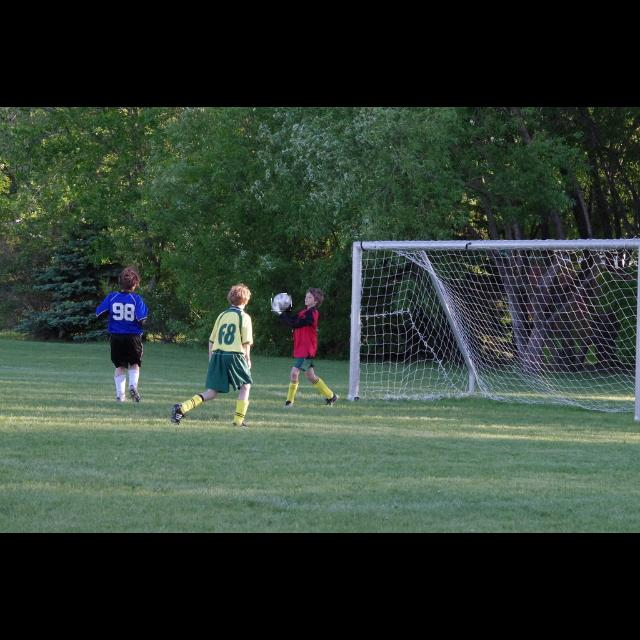Football: (272, 294, 292, 312)
